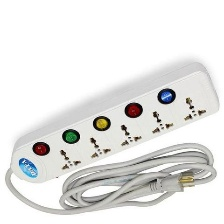three_eye_plug: (6, 56, 222, 184)
